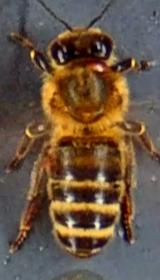varroa_mite: (78, 54, 116, 76)
